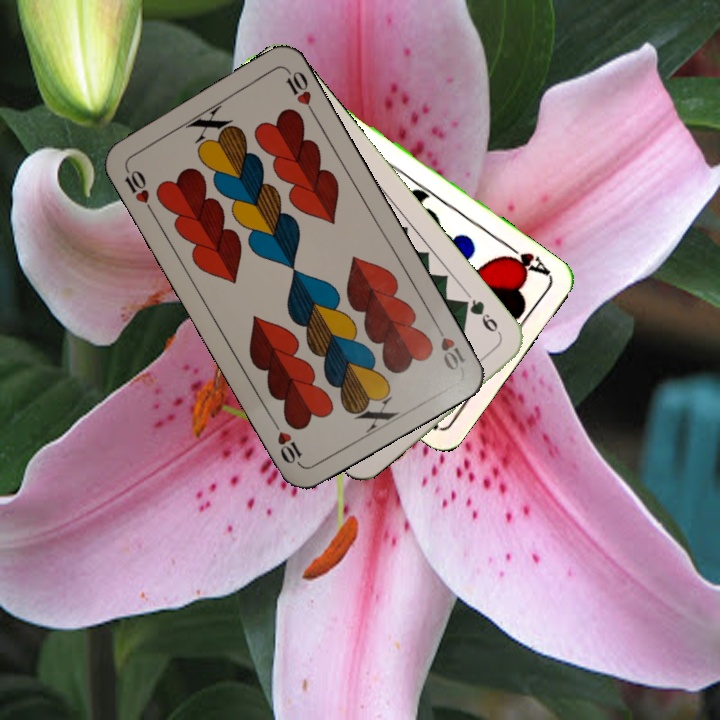G9: (457, 295, 505, 340)
H10: (430, 318, 469, 374), (119, 162, 156, 216)
HA: (498, 238, 553, 279)
